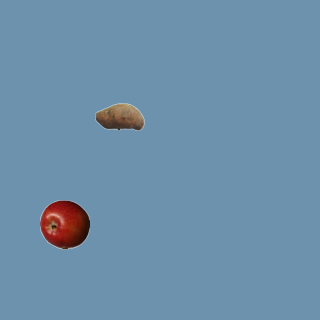Apple Braeburn: (39, 199, 89, 249)
Potato Sweet: (94, 91, 144, 141)
